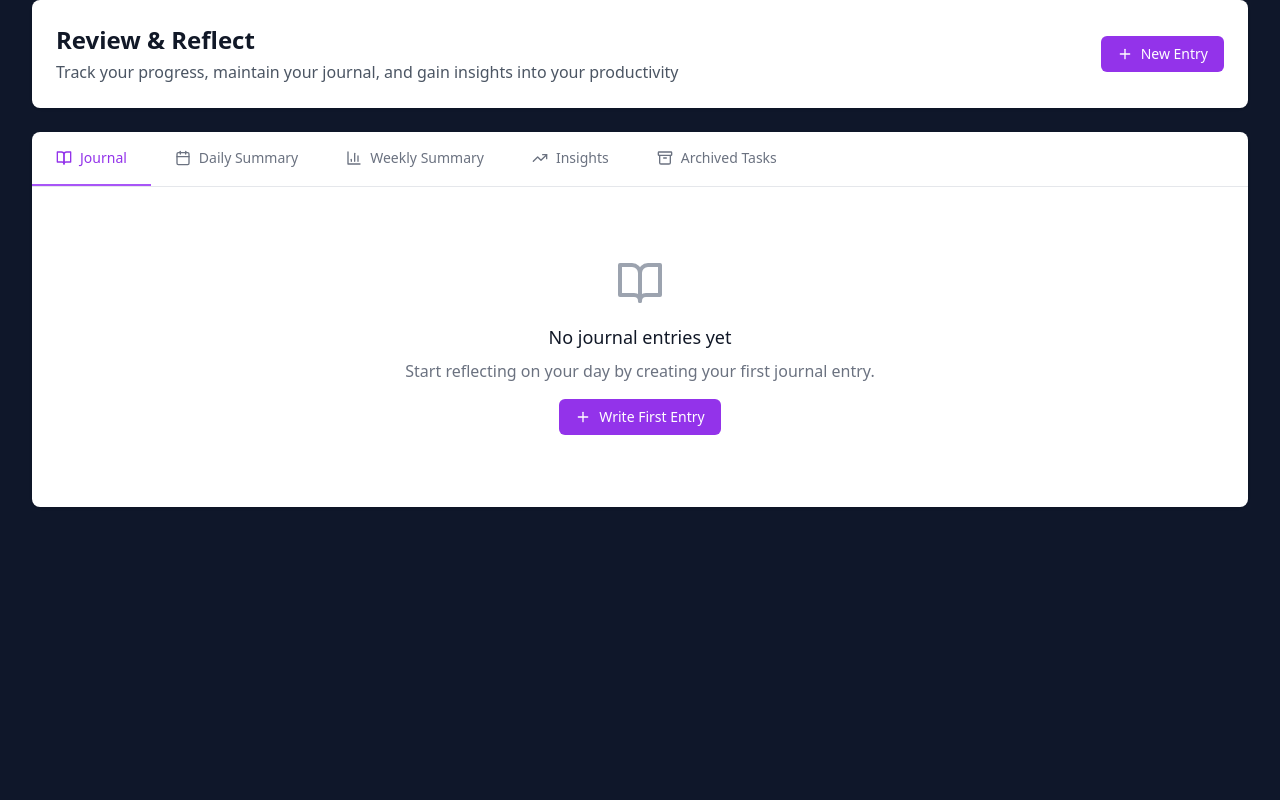
Test: TaskReview › Daily Summary Tab › should show loading skeleton
Click the button "Daily Summary".
click(237, 159)  # box top-left (151, 132), bottom-right (322, 186)
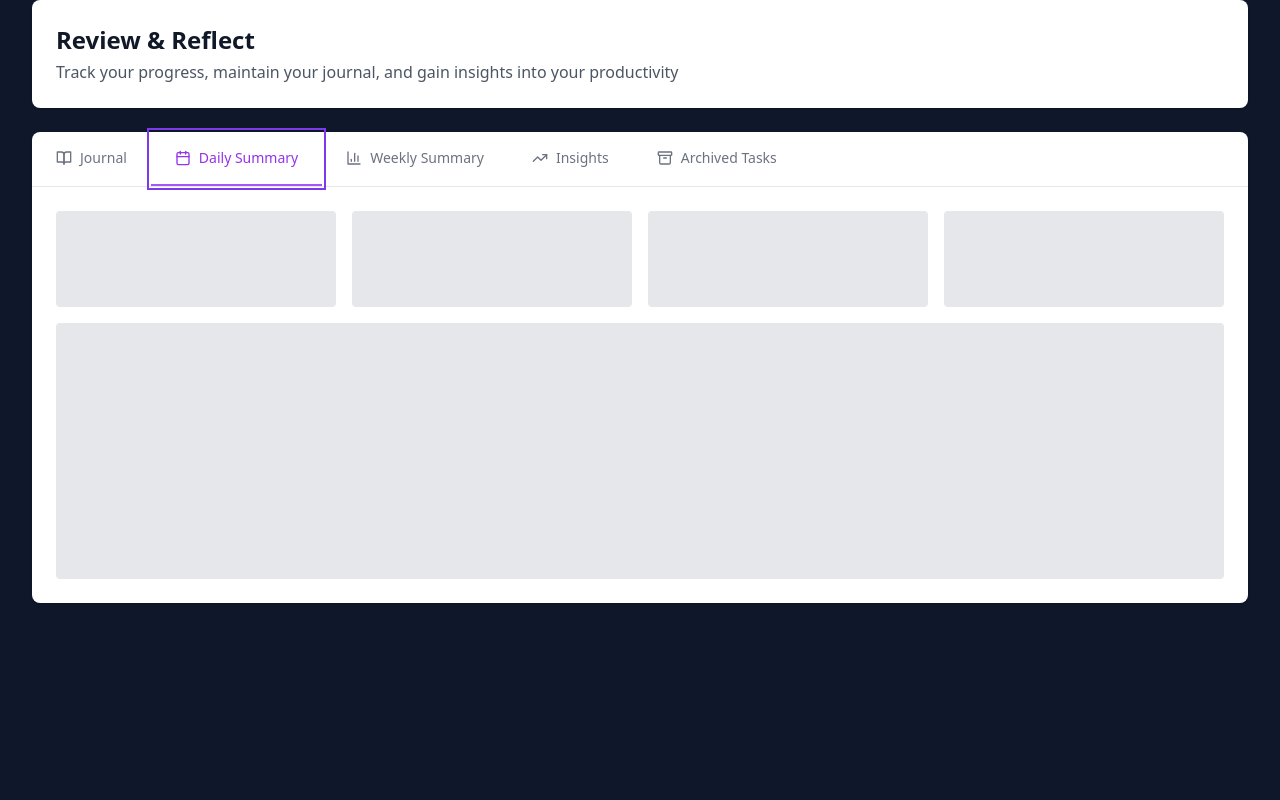
Now the element with class "animate-pulse" is shown, box top-left (56, 211), bottom-right (1224, 579)
